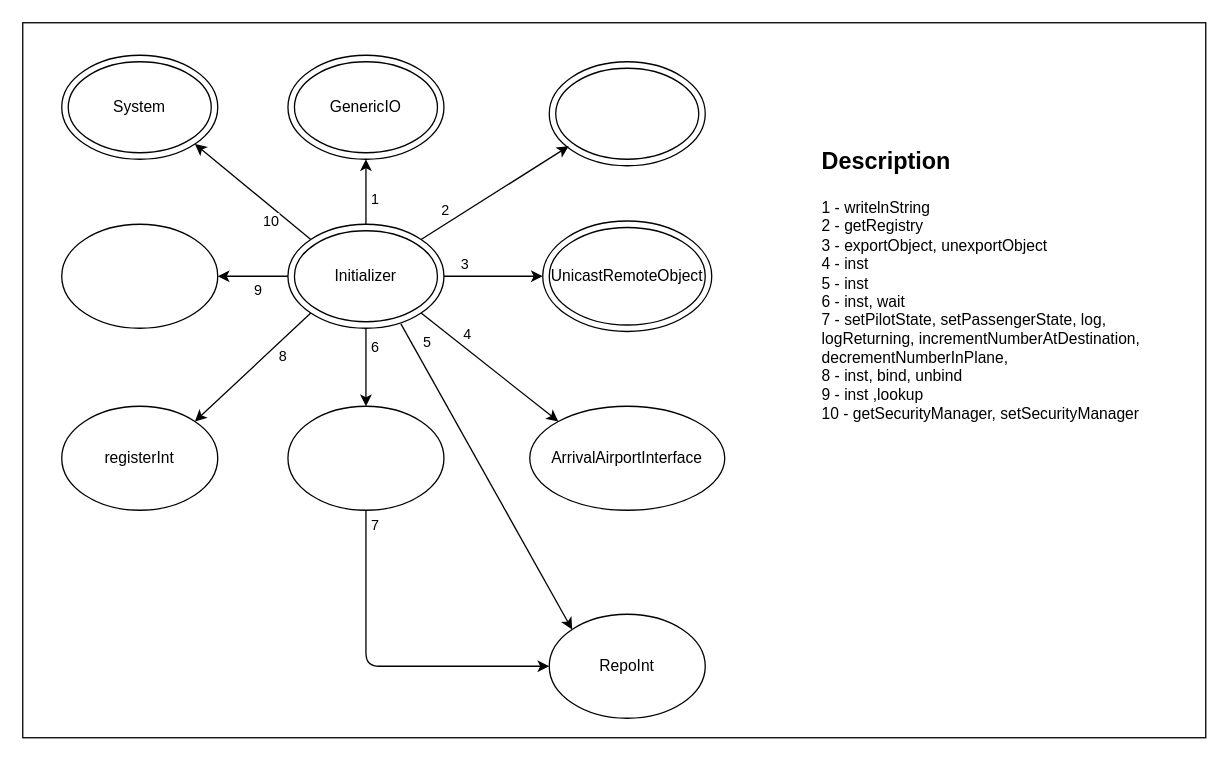
The diagram is 1229 pixels wide and 761 high, and some of its shapes have lost their labels. Each missing label, with the centre of its shape:
"ArrivalAirport" belongs at point 365,457.
"LocateRegistry" belongs at point 626,113.
"registry" belongs at point 139,275.
